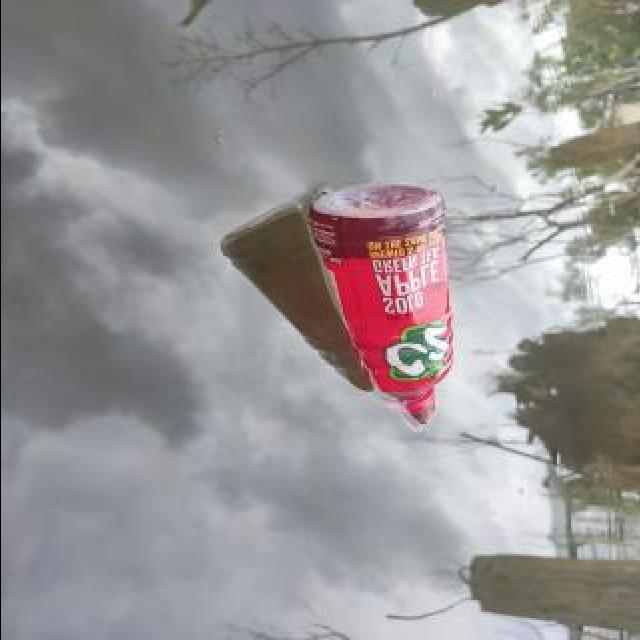Bottle: (296, 176, 462, 432)
